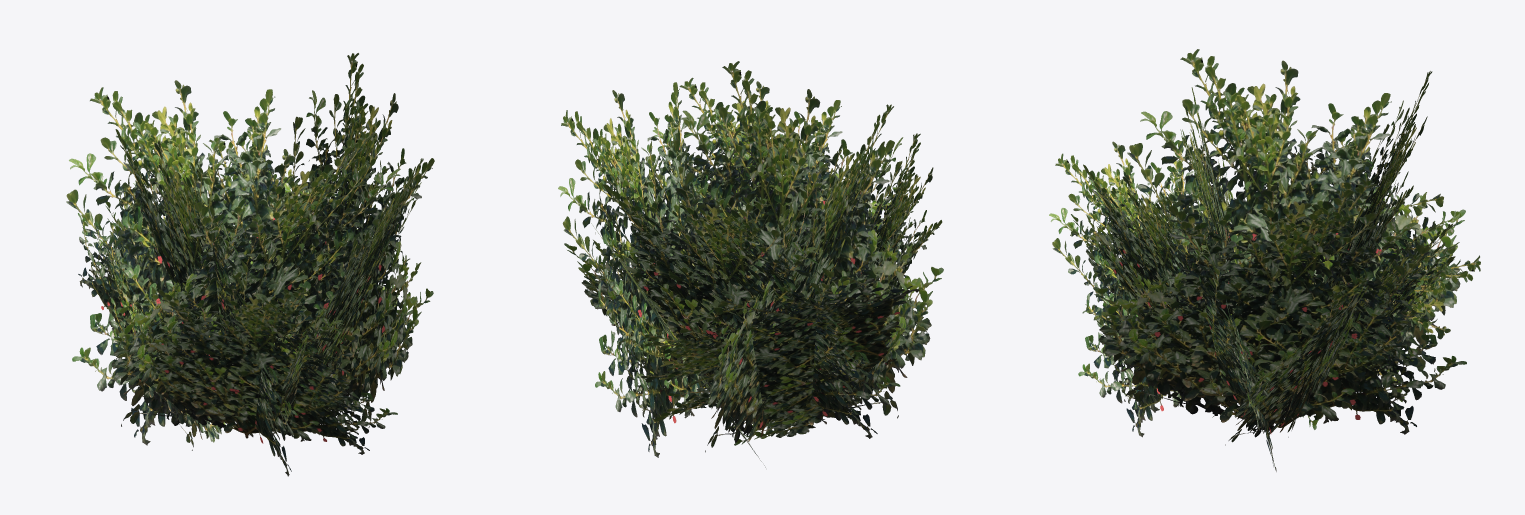
File: With_Resberry.fbx
The picture shows the model from 3 angles, left to right: view 1: azimuth 30°, elevation 25°; view 2: azimuth 150°, elevation 25°; view 3: azimuth 270°, elevation 25°; orthographic projection. The views are drawn at different scales.
Visible parts, largest first — view 1: With_RessBerry; view 2: With_RessBerry; view 3: With_RessBerry.
Part boxes in pixels (<box>): With_RessBerry: <box>66,53,434,476</box>; With_RessBerry: <box>558,61,943,467</box>; With_RessBerry: <box>1049,49,1480,471</box>.
Size of the model in its own units: 3.09 by 2.57 by 3.52.
1 material, 1 textured.
